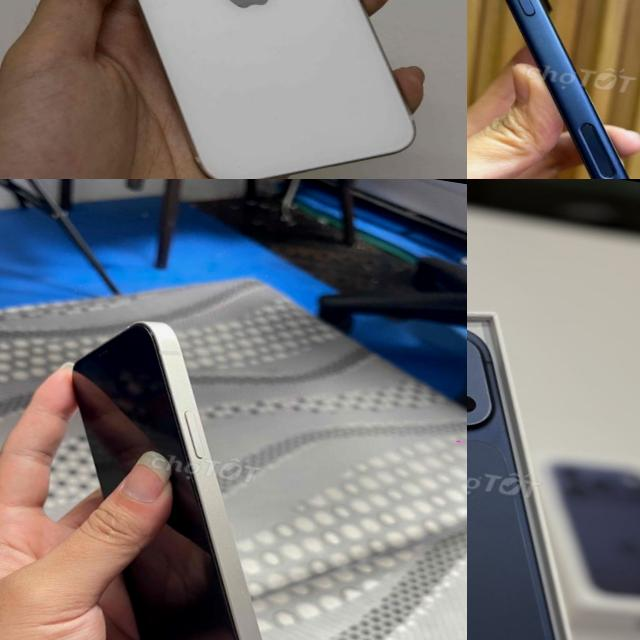scratch: (210, 0, 279, 12)
